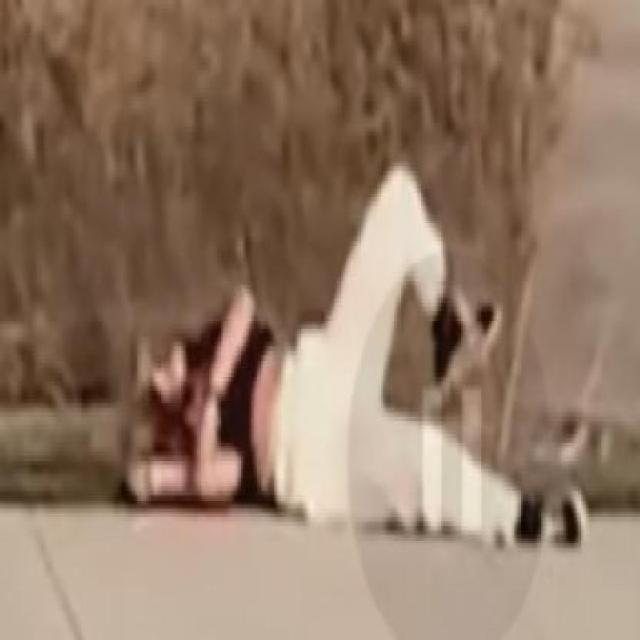fall: (129, 165, 589, 557)
